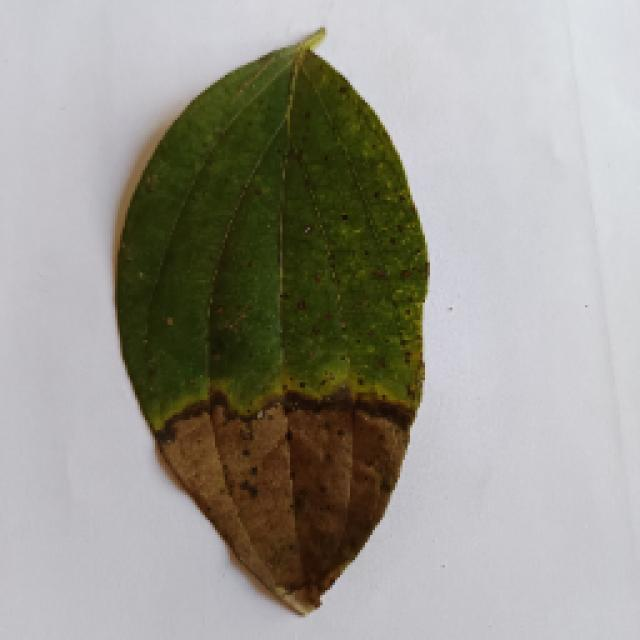footrot: (110, 33, 428, 615)
